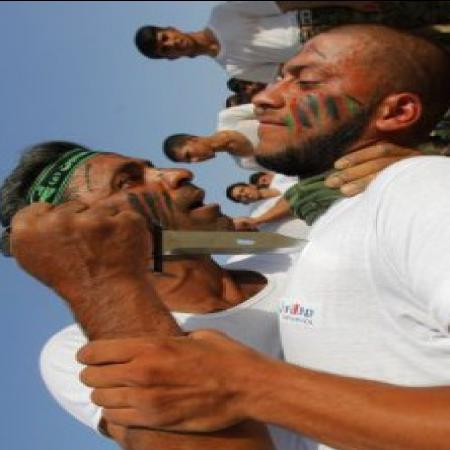long weapon: (85, 203, 316, 280)
